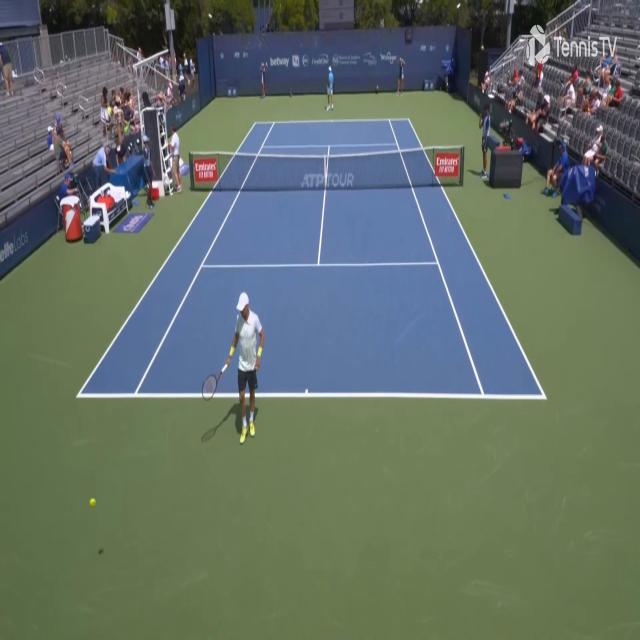tennis-player: (200, 289, 264, 449), (324, 62, 335, 112)
